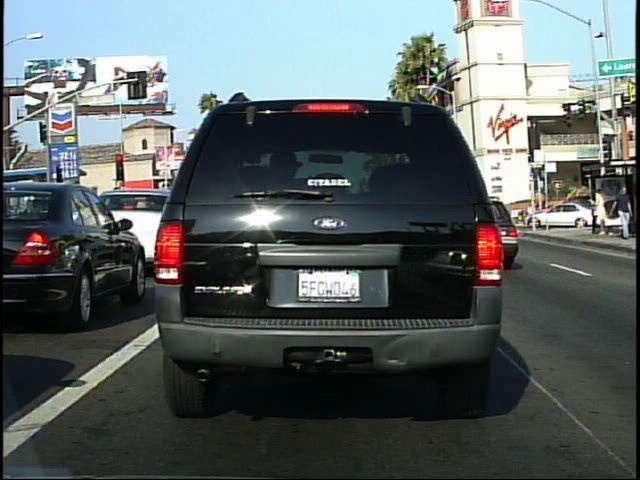person: (614, 180, 633, 242), (591, 183, 610, 240), (525, 202, 538, 226)
